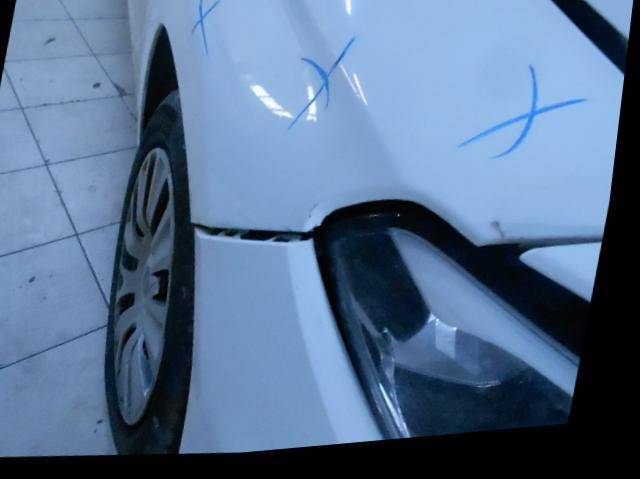dislocated part: (155, 0, 632, 272)
